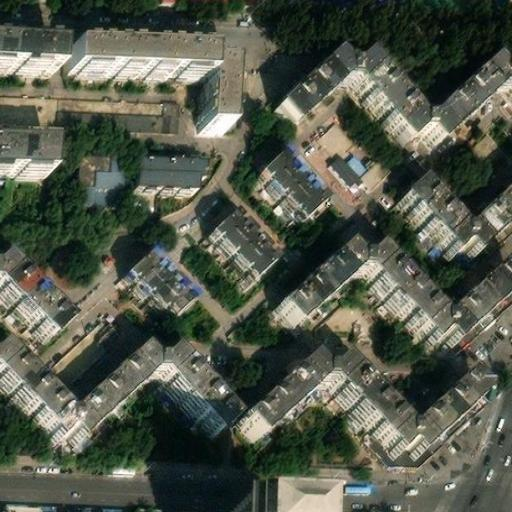building: (246, 354, 491, 457), (273, 240, 512, 343), (269, 49, 512, 141), (67, 344, 239, 434), (396, 176, 512, 257), (4, 88, 182, 136), (0, 239, 66, 329), (120, 247, 190, 318), (262, 139, 332, 209), (216, 201, 282, 267), (69, 43, 206, 74), (263, 473, 342, 512), (77, 147, 123, 200), (131, 157, 194, 190), (0, 38, 59, 69), (0, 130, 52, 164), (203, 60, 226, 129), (330, 147, 362, 179), (359, 149, 391, 181), (347, 148, 366, 168)
